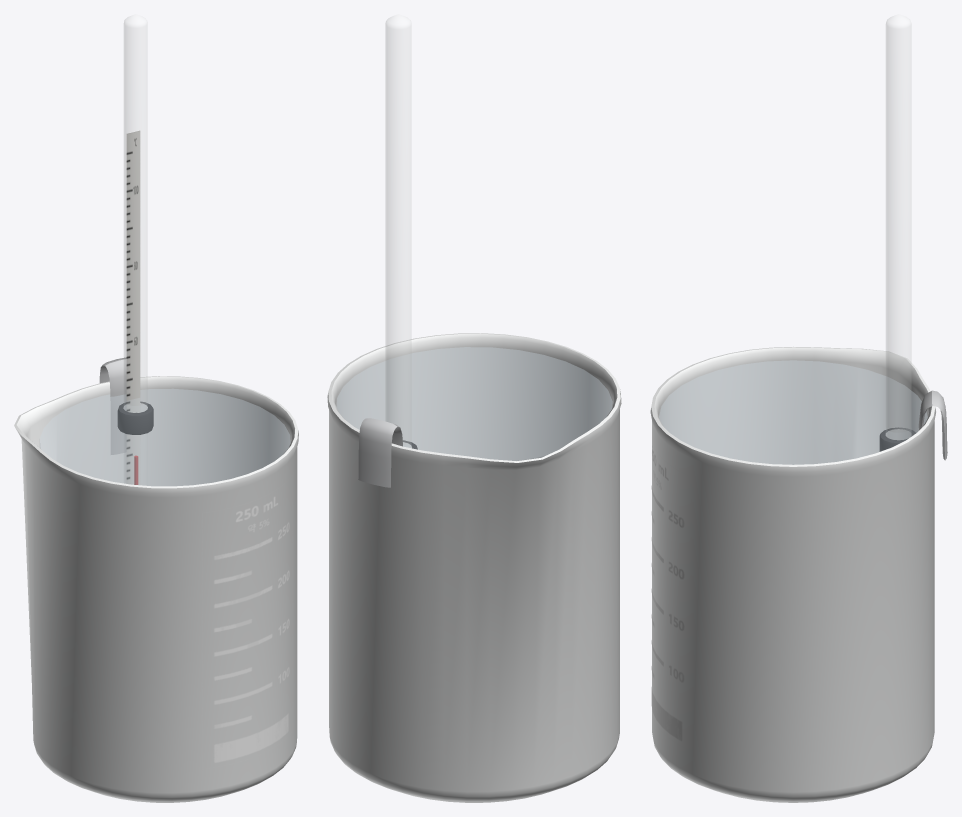
Rendered from beaker_water.glb.
3 views of the same model, side by side, from view 1: azimuth 30°, elevation 25°; view 2: azimuth 150°, elevation 25°; view 3: azimuth 270°, elevation 25° (orthographic). The views are drawn at different scales.
Visible parts, largest first — view 1: beaker_glass, inner_volume, thermo_glass, thermo_scale, beaker_marks, thermo_clip, thermo_ring; view 2: beaker_glass, inner_volume, thermo_glass, thermo_clip; view 3: beaker_glass, inner_volume, thermo_glass, beaker_marks, thermo_clip.
Boxes of the visible parts, x1=… form: beaker_glass: x1=14, y1=376, x2=298, y2=802; inner_volume: x1=40, y1=389, x2=290, y2=485; thermo_glass: x1=124, y1=14, x2=147, y2=484; thermo_scale: x1=126, y1=130, x2=140, y2=485; beaker_marks: x1=214, y1=496, x2=289, y2=762; thermo_clip: x1=99, y1=357, x2=126, y2=454; thermo_ring: x1=117, y1=401, x2=153, y2=434; beaker_glass: x1=327, y1=333, x2=621, y2=802; inner_volume: x1=337, y1=347, x2=612, y2=460; thermo_glass: x1=385, y1=14, x2=411, y2=447; thermo_clip: x1=358, y1=418, x2=402, y2=487; beaker_glass: x1=650, y1=346, x2=935, y2=802; inner_volume: x1=659, y1=360, x2=927, y2=464; thermo_glass: x1=886, y1=14, x2=911, y2=439; beaker_marks: x1=651, y1=446, x2=684, y2=741; thermo_clip: x1=918, y1=390, x2=947, y2=460.
Size of the model in its own units: 0.0708 by 0.205 by 0.0736.
8 materials, 2 textured.
